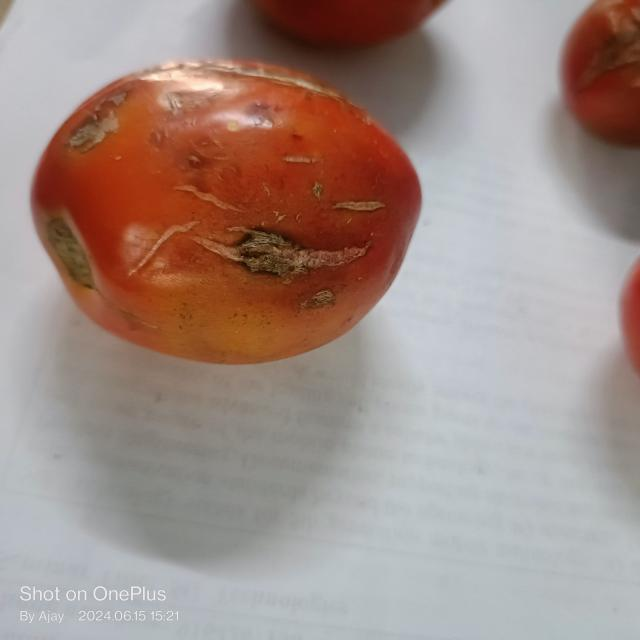tomato_cracking: (123, 214, 382, 305), (56, 82, 141, 151), (163, 169, 257, 218), (308, 187, 399, 225)
